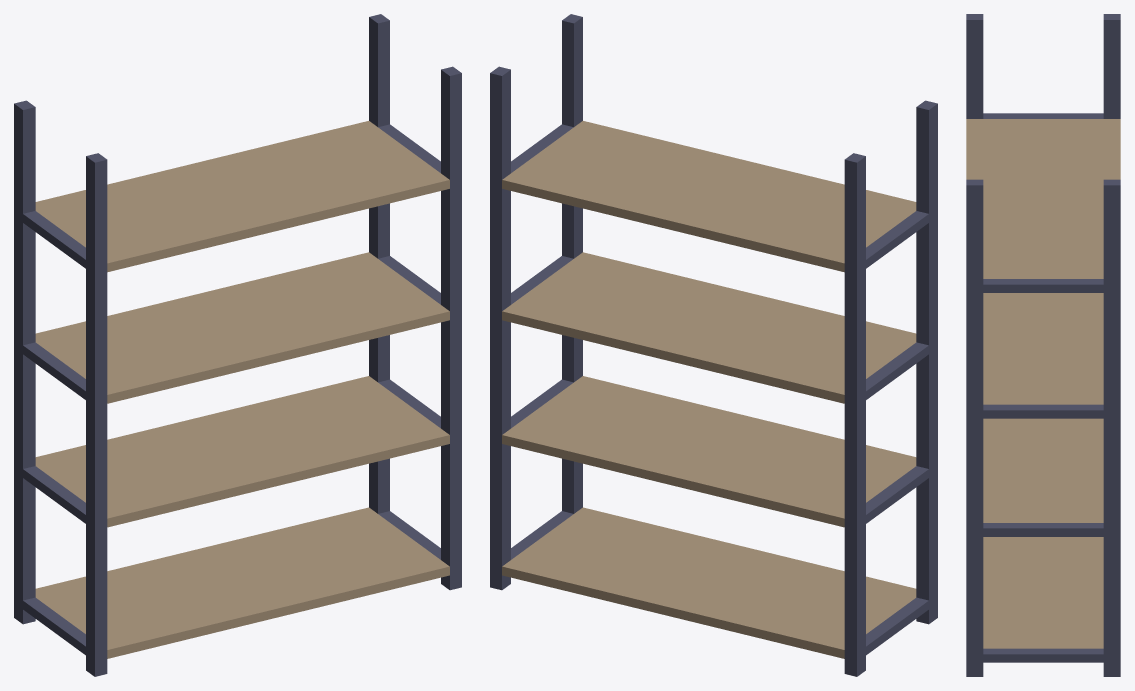
File: Gran Estante.fbx
3 renders of one model, left to right at view 1: azimuth 30°, elevation 25°; view 2: azimuth 150°, elevation 25°; view 3: azimuth 270°, elevation 25°, orthographic. The views are drawn at different scales.
Visible parts, largest first — view 1: Gran_Estante; view 2: Gran_Estante; view 3: Gran_Estante.
Boxes of the visible parts, x1,y1,x2,y2 form: Gran_Estante: [14, 14, 461, 676]; Gran_Estante: [490, 14, 937, 676]; Gran_Estante: [966, 14, 1120, 676].
Bounding box in the file's own units: 4.04 × 5.41 × 1.54.
